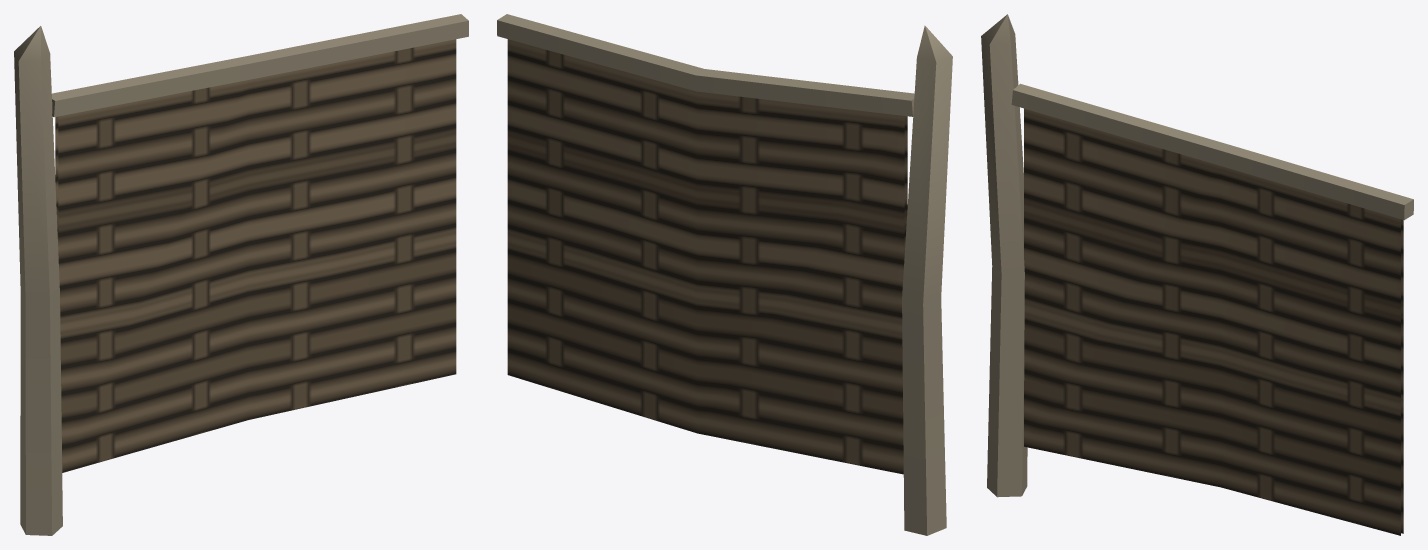
Rendered from Hurdle.fbx.
3 renders of one model, left to right at view 1: azimuth 30°, elevation 25°; view 2: azimuth 150°, elevation 25°; view 3: azimuth 330°, elevation 25°, orthographic. The views are drawn at different scales.
Parts seen in each view (by area): view 1: Hurdle; view 2: Hurdle; view 3: Hurdle.
Boxes of the visible parts, bbox=[...] form: Hurdle: bbox=[14, 14, 468, 535]; Hurdle: bbox=[497, 14, 952, 535]; Hurdle: bbox=[981, 14, 1413, 535].
Size of the model in its own units: 1.04 by 1.11 by 0.0977.
